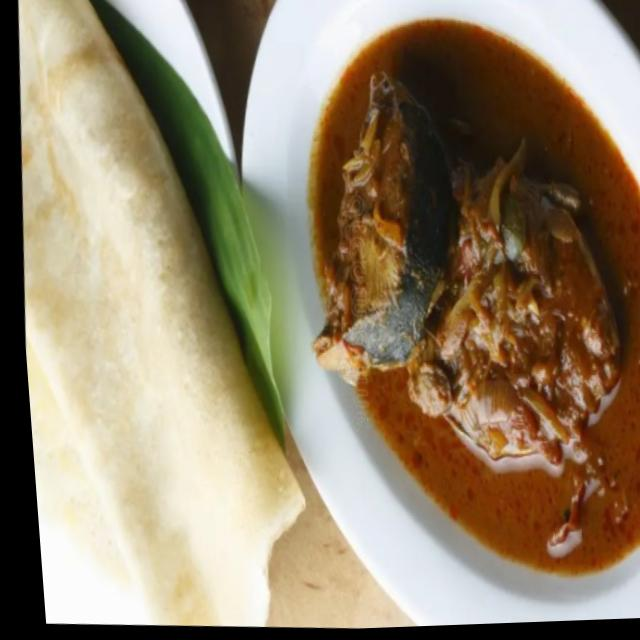DOSA: (18, 0, 303, 625)
FISH CURRY: (309, 20, 640, 573)
